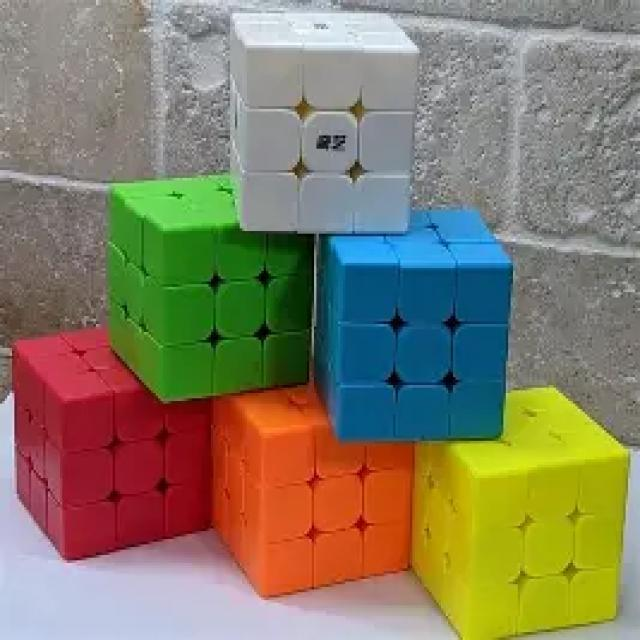Rubiks Cube: (406, 369, 632, 640), (9, 317, 218, 567), (204, 368, 421, 607), (312, 201, 518, 442), (105, 172, 316, 407), (224, 8, 422, 236)
